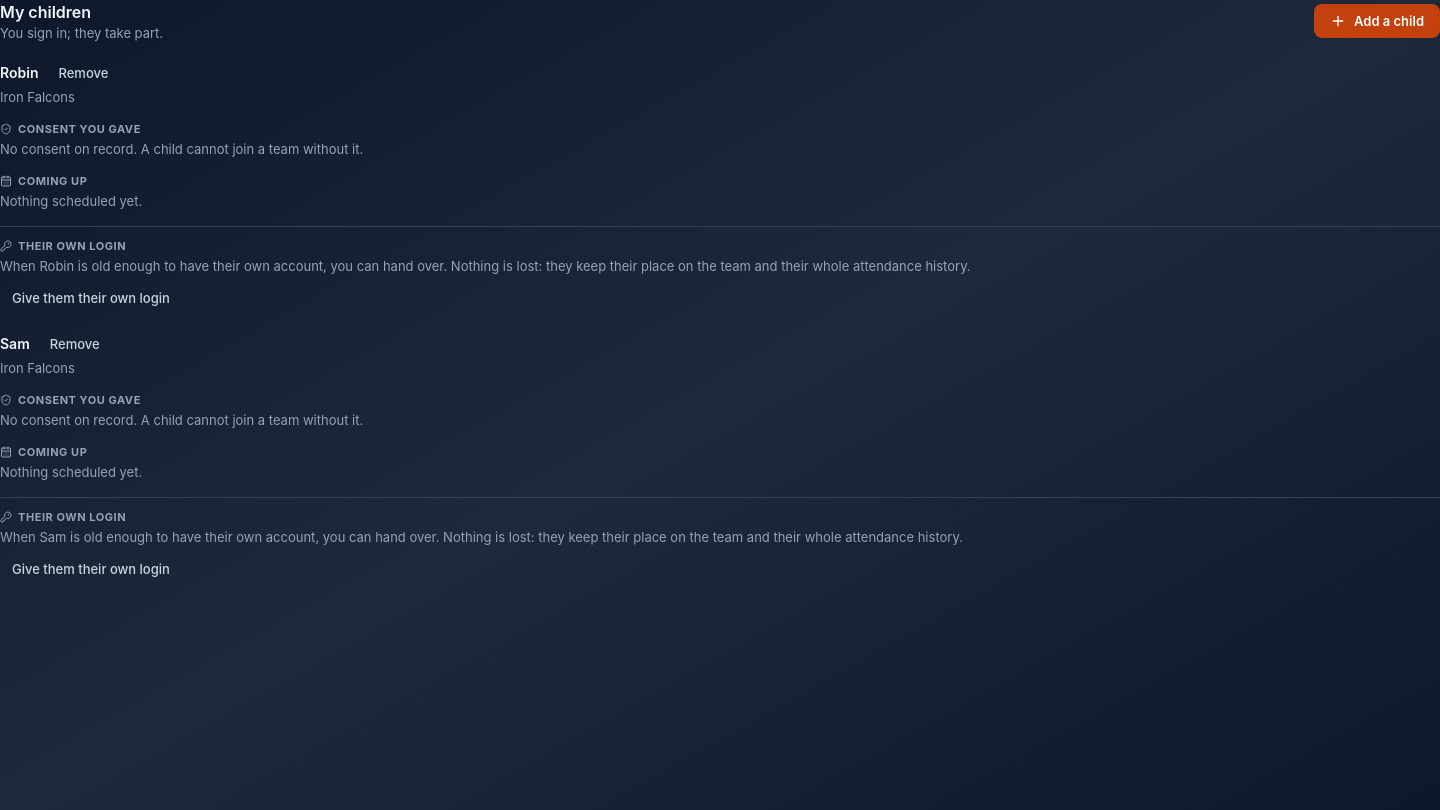
Test case: SEC-11 — removing one child › does nothing at all when the parent cancels
The image size is (1440, 810).
Click the button with test id "remove-child-child-a".
click(83, 73)  # box [46,58,120,88]
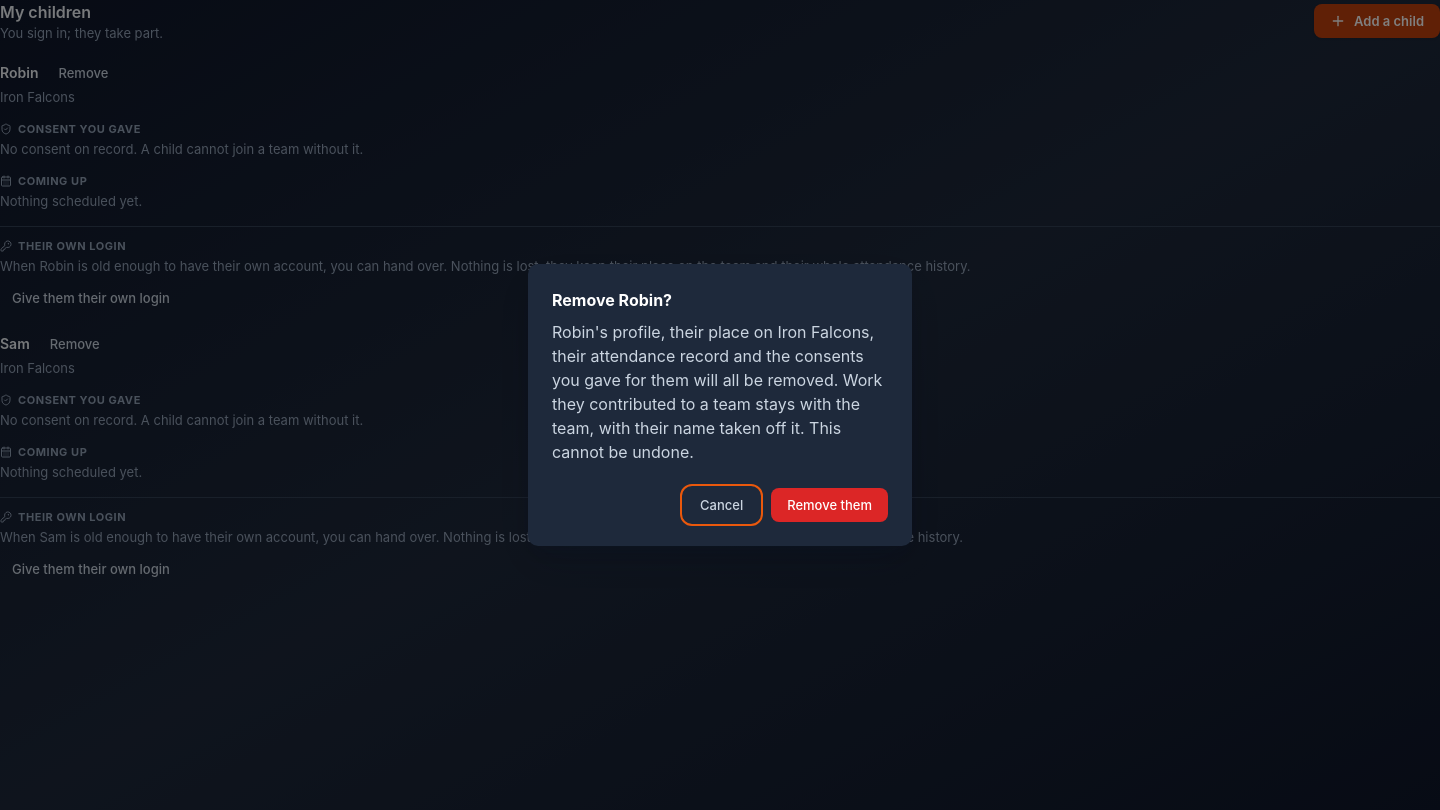
Click the button "Cancel".
click(722, 505)  # box [684,488,759,522]
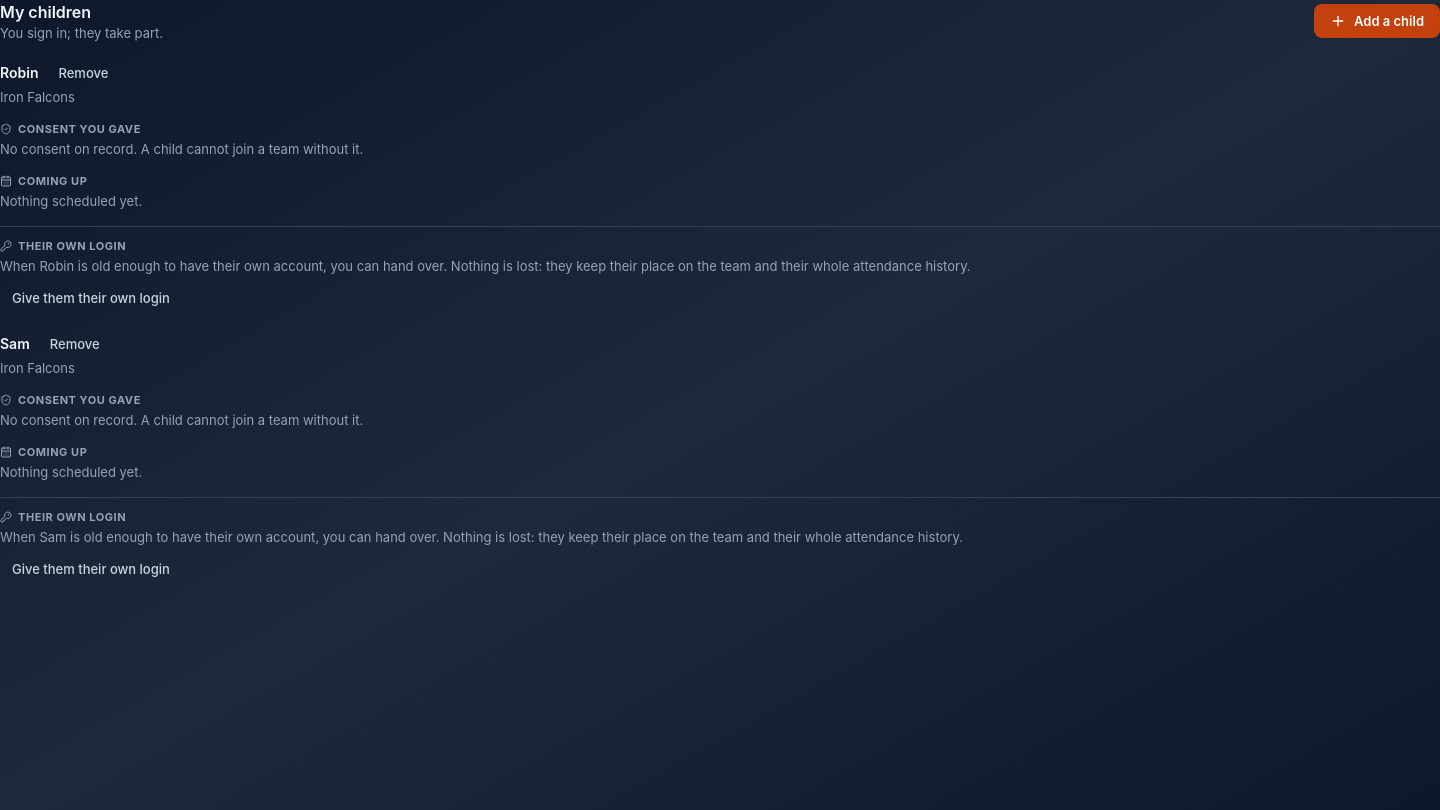
Result: the button with test id "confirm-remove-child" is gone
